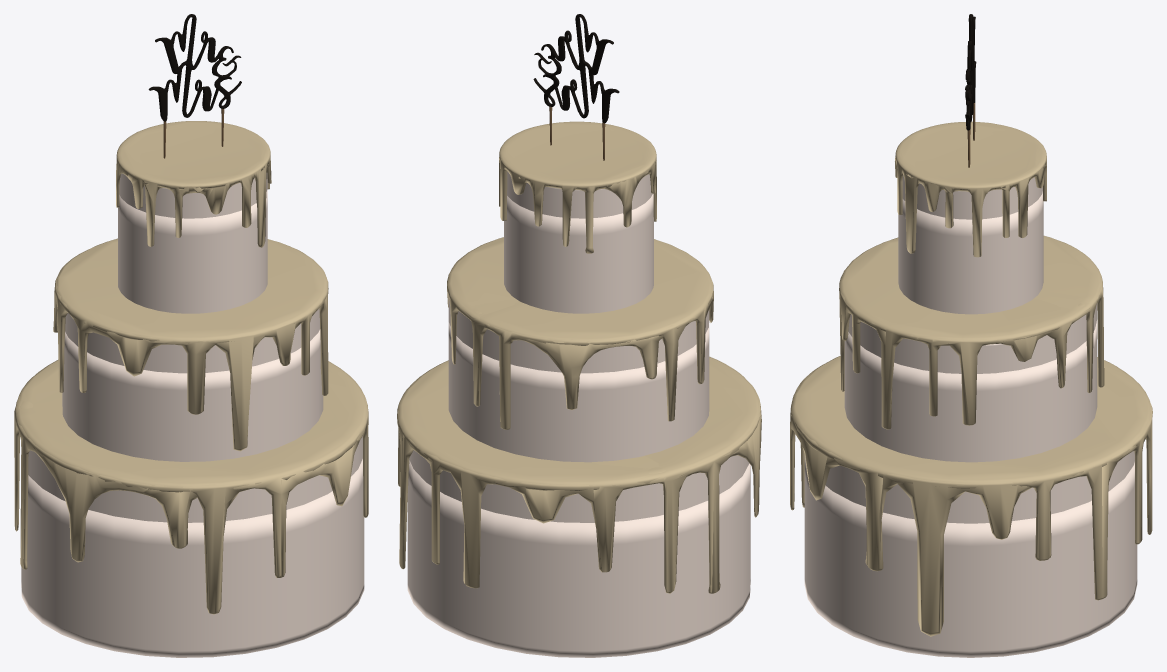
File: 3-tier-white-ganache-mrms.glb
3 renders of one model, left to right at view 1: azimuth 30°, elevation 25°; view 2: azimuth 150°, elevation 25°; view 3: azimuth 270°, elevation 25°, orthographic.
Visible parts, largest first — view 1: Cylinder.022, tHE ICING.005, Cylinder.014, tHE ICING.002, Cylinder.021, tHE ICING.001, mrms.003; view 2: Cylinder.022, tHE ICING.005, Cylinder.014, tHE ICING.002, Cylinder.021, tHE ICING.001, mrms.003; view 3: Cylinder.022, tHE ICING.005, Cylinder.014, tHE ICING.002, Cylinder.021, tHE ICING.001, mrms.003.
Boxes of the visible parts, bbox=[...] form: Cylinder.022: bbox=[21, 436, 364, 657]; tHE ICING.005: bbox=[14, 360, 368, 614]; Cylinder.014: bbox=[62, 309, 323, 461]; tHE ICING.002: bbox=[53, 238, 328, 451]; Cylinder.021: bbox=[118, 173, 267, 313]; tHE ICING.001: bbox=[116, 121, 271, 247]; mrms.003: bbox=[148, 14, 241, 158]; Cylinder.022: bbox=[407, 450, 750, 657]; tHE ICING.005: bbox=[397, 356, 761, 593]; Cylinder.014: bbox=[448, 297, 709, 462]; tHE ICING.002: bbox=[447, 237, 713, 429]; Cylinder.021: bbox=[504, 171, 653, 313]; tHE ICING.001: bbox=[499, 121, 656, 253]; mrms.003: bbox=[533, 14, 619, 160]; Cylinder.022: bbox=[804, 451, 1137, 657]; tHE ICING.005: bbox=[790, 356, 1152, 636]; Cylinder.014: bbox=[844, 303, 1097, 462]; tHE ICING.002: bbox=[839, 235, 1104, 429]; Cylinder.021: bbox=[898, 175, 1043, 314]; tHE ICING.001: bbox=[895, 121, 1046, 257]; mrms.003: bbox=[965, 14, 976, 167].
Size of the model in its own units: 4.33 by 7.67 by 4.43.
